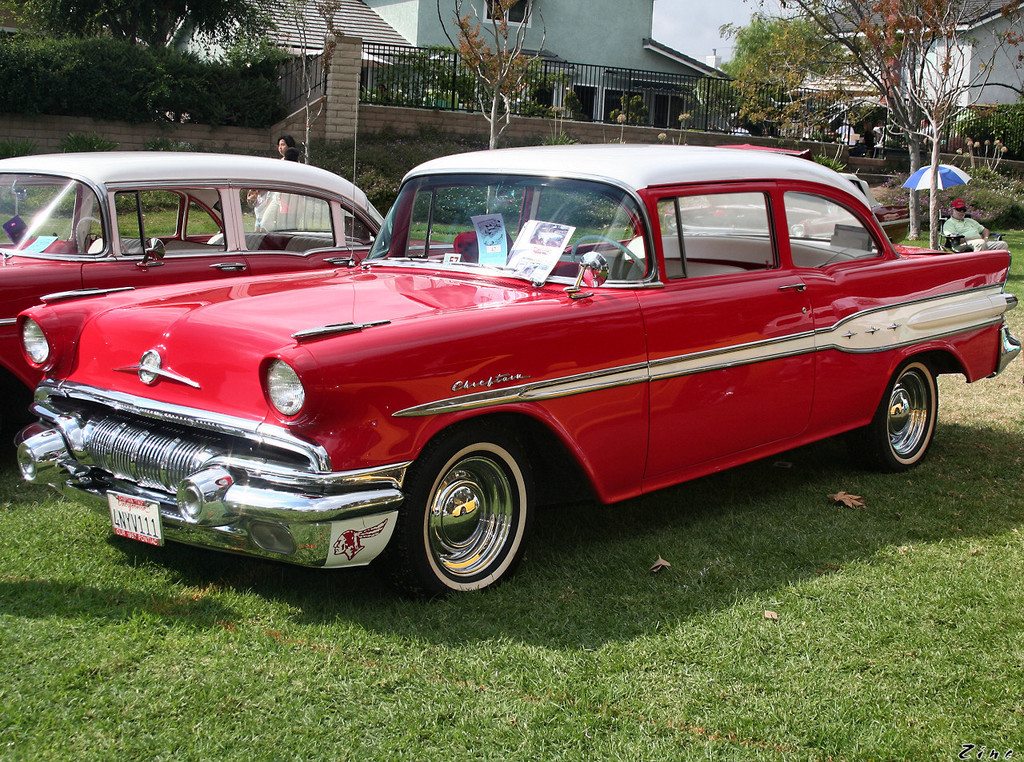Car: (0, 155, 1010, 620), (0, 147, 455, 458)
